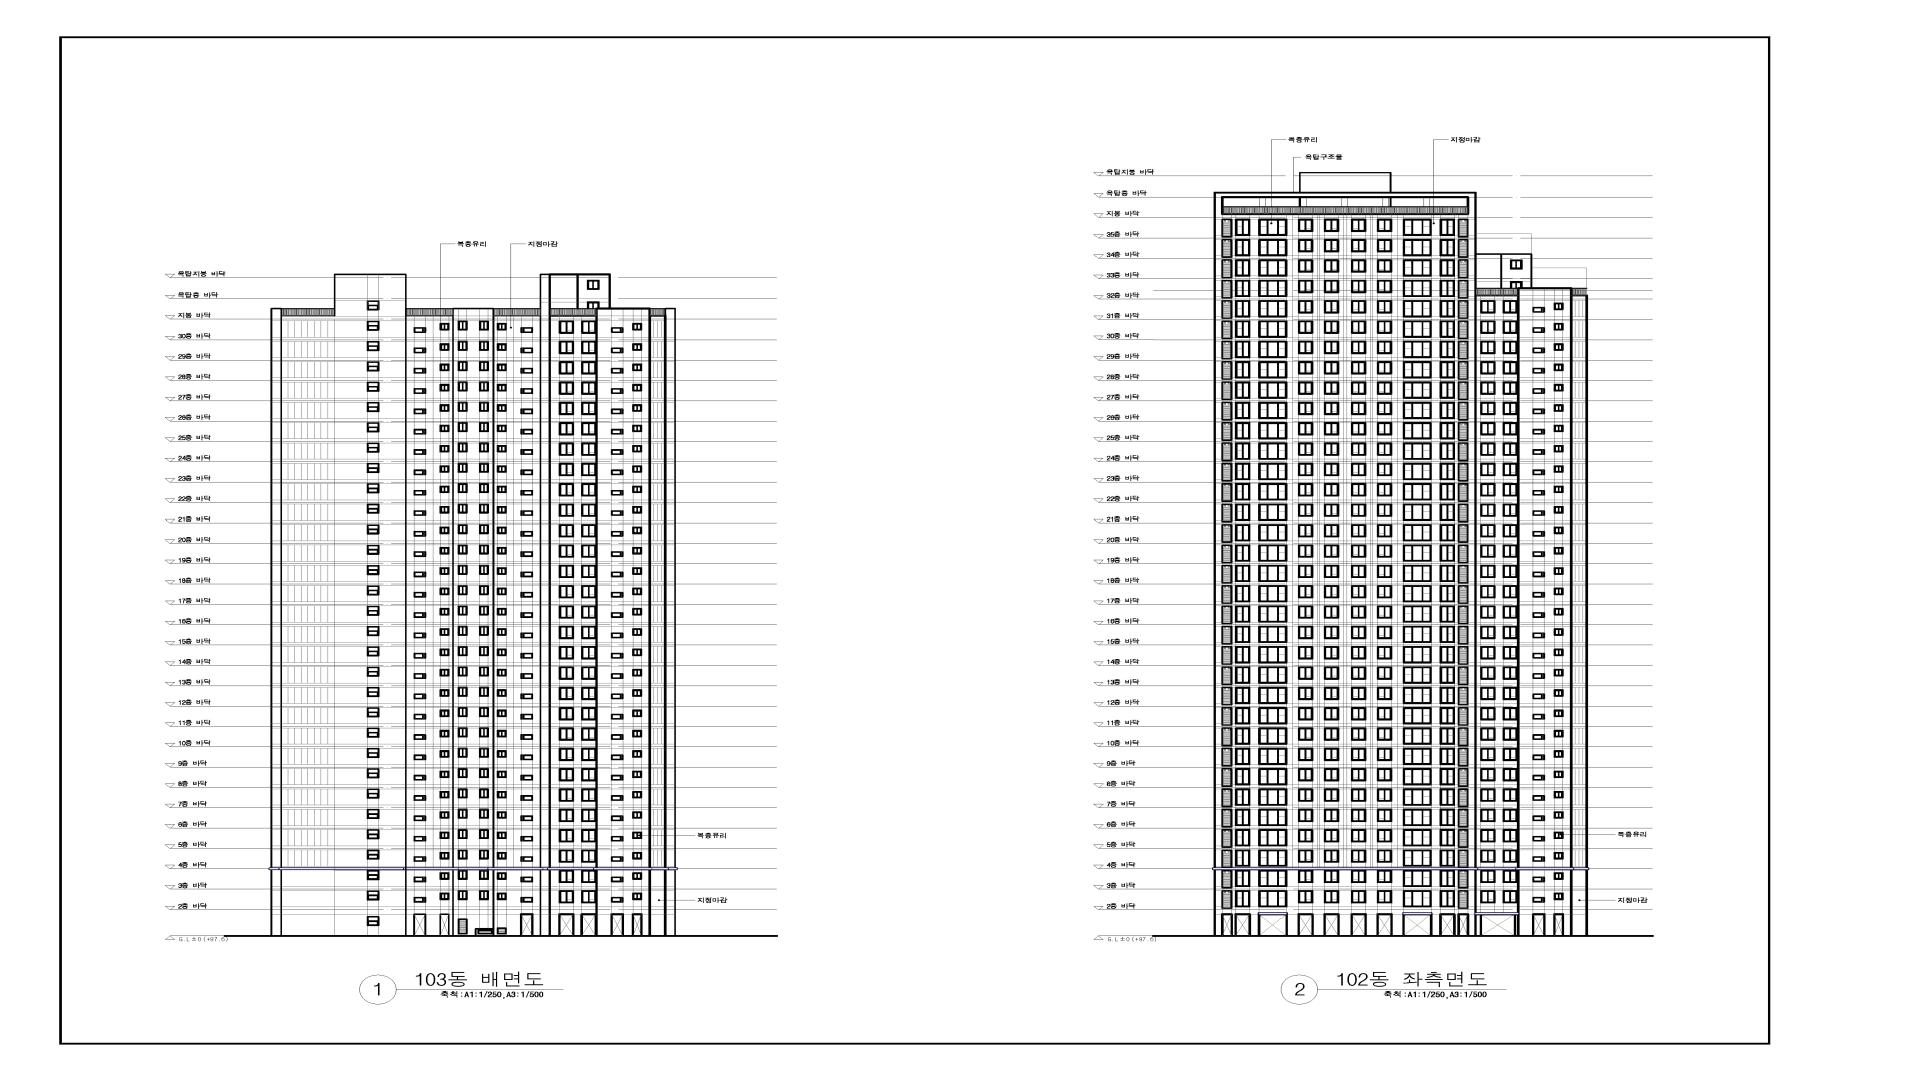door: (1480, 914, 1516, 935), (1258, 914, 1288, 935), (1402, 915, 1432, 935), (558, 913, 575, 936), (580, 914, 597, 936), (1234, 913, 1251, 935), (1350, 913, 1367, 935), (1439, 913, 1456, 935), (1298, 913, 1313, 935), (1324, 913, 1340, 935), (1377, 913, 1393, 935), (520, 914, 534, 936), (611, 913, 624, 936), (413, 914, 426, 936), (1532, 913, 1545, 935), (1221, 913, 1233, 935), (1457, 913, 1469, 935), (632, 913, 642, 936), (439, 914, 450, 936), (1553, 914, 1564, 935)
wall: (1213, 171, 1588, 938), (270, 273, 675, 938)
window: (1300, 196, 1391, 215), (1221, 196, 1300, 215), (1391, 196, 1469, 215), (1258, 239, 1287, 257), (1258, 340, 1287, 359), (1258, 483, 1287, 501), (1258, 625, 1287, 644), (1258, 666, 1287, 684), (1403, 849, 1432, 868), (1258, 767, 1287, 786), (1403, 666, 1432, 684), (1258, 280, 1288, 297), (1258, 361, 1288, 378), (1258, 402, 1288, 419), (1258, 422, 1288, 439), (1258, 504, 1288, 521), (1258, 525, 1288, 542), (1258, 545, 1288, 562), (1258, 585, 1288, 603), (1258, 870, 1288, 887), (1402, 260, 1432, 277), (1402, 280, 1432, 297), (1258, 219, 1287, 236), (1258, 260, 1287, 277), (1258, 301, 1287, 318), (1258, 320, 1287, 338), (1258, 381, 1287, 398), (1258, 443, 1287, 460), (1258, 463, 1287, 480), (1258, 564, 1287, 582), (1258, 605, 1287, 622), (1258, 646, 1287, 663), (1258, 687, 1287, 704), (1258, 707, 1287, 724), (1258, 728, 1287, 745), (1403, 789, 1432, 806), (1403, 808, 1432, 825), (1403, 829, 1432, 847), (1403, 870, 1432, 887), (1403, 890, 1432, 907), (1258, 748, 1287, 765), (1258, 789, 1287, 806), (1258, 808, 1287, 825), (1258, 829, 1287, 847), (1258, 849, 1287, 866), (1258, 890, 1287, 907), (1403, 219, 1432, 236), (1403, 239, 1432, 256), (1403, 301, 1432, 318), (1403, 320, 1432, 338), (1403, 342, 1432, 359), (1403, 361, 1432, 378), (1403, 381, 1432, 398), (1403, 402, 1432, 419), (1403, 422, 1432, 439), (1403, 443, 1432, 460), (1403, 463, 1432, 480), (1403, 483, 1432, 500), (1403, 504, 1432, 521), (1403, 525, 1432, 542), (1403, 545, 1432, 562), (1403, 564, 1432, 582), (1403, 585, 1432, 603), (1403, 605, 1432, 622), (1403, 626, 1432, 644), (1403, 646, 1432, 663), (1403, 687, 1432, 704), (1403, 707, 1432, 724), (1403, 728, 1432, 745), (1403, 748, 1432, 765), (1403, 769, 1432, 786), (1440, 666, 1456, 684), (1440, 767, 1456, 786), (1440, 280, 1456, 297), (1440, 402, 1456, 419), (1440, 463, 1456, 480), (1234, 219, 1250, 236), (1234, 260, 1250, 277), (1440, 829, 1456, 847), (1236, 808, 1250, 827), (1236, 869, 1250, 887), (1440, 442, 1455, 460), (1440, 564, 1455, 583), (1236, 239, 1250, 257), (1236, 340, 1250, 359), (1236, 767, 1250, 786), (1440, 808, 1455, 827), (1236, 789, 1250, 806), (1236, 829, 1250, 847), (1236, 849, 1250, 866), (1236, 890, 1250, 907), (1440, 219, 1455, 236), (1440, 239, 1455, 256), (1440, 260, 1455, 277), (1440, 301, 1455, 318), (1440, 320, 1455, 338), (1440, 342, 1455, 359), (1440, 361, 1455, 378), (1440, 381, 1455, 398), (1440, 422, 1455, 439), (1440, 483, 1455, 500), (1440, 504, 1455, 521), (1440, 525, 1455, 542), (1440, 545, 1455, 562), (1440, 585, 1455, 603), (1440, 605, 1455, 622), (1440, 626, 1455, 644), (1440, 646, 1455, 663), (1440, 687, 1455, 704), (1440, 707, 1455, 724), (1440, 728, 1455, 745), (1440, 748, 1455, 765), (1502, 340, 1519, 355), (1502, 381, 1519, 396), (1503, 767, 1520, 782), (1236, 280, 1250, 297), (1236, 301, 1250, 318), (1236, 320, 1250, 338), (1236, 361, 1250, 378), (1236, 381, 1250, 398), (1236, 402, 1250, 419), (1236, 422, 1250, 439), (1236, 443, 1250, 460), (1236, 463, 1250, 480), (1236, 483, 1250, 500), (1236, 504, 1250, 521), (1236, 525, 1250, 542), (1236, 545, 1250, 562), (1236, 564, 1250, 582), (1236, 585, 1250, 603), (1236, 605, 1250, 622), (1236, 626, 1250, 644), (1236, 646, 1250, 663), (1236, 667, 1250, 684), (1236, 687, 1250, 704), (1236, 707, 1250, 724), (1236, 728, 1250, 745), (1236, 748, 1250, 765), (1440, 789, 1455, 806), (1440, 849, 1455, 866), (1440, 870, 1455, 887), (1440, 890, 1455, 907), (1221, 808, 1233, 828), (1457, 808, 1469, 828), (1221, 239, 1233, 258), (1221, 299, 1233, 319), (1221, 483, 1233, 502), (1221, 564, 1233, 584), (1221, 666, 1233, 686), (1457, 564, 1469, 584), (1298, 849, 1313, 864), (1377, 340, 1393, 355), (1350, 340, 1366, 355), (1377, 483, 1393, 497), (1503, 442, 1519, 456), (1503, 666, 1519, 680), (1503, 707, 1519, 721), (1298, 666, 1313, 680), (1324, 767, 1340, 782), (1324, 808, 1340, 823), (1298, 767, 1313, 782), (1298, 808, 1313, 823), (1480, 666, 1495, 680), (1480, 442, 1495, 456), (1324, 340, 1340, 355), (1298, 340, 1313, 355), (1324, 442, 1340, 456), (1298, 442, 1313, 456), (1324, 483, 1340, 497), (1377, 666, 1393, 680), (1377, 767, 1393, 782), (1350, 767, 1366, 782), (1377, 808, 1393, 823), (1503, 361, 1520, 375), (1502, 402, 1519, 415), (1502, 422, 1519, 435), (1502, 463, 1519, 476), (1503, 483, 1520, 496), (1502, 545, 1519, 558), (1502, 585, 1519, 599), (1502, 626, 1519, 640), (1502, 728, 1519, 741), (1502, 829, 1519, 843), (1503, 890, 1520, 903), (1502, 301, 1519, 314), (1503, 320, 1520, 334), (1221, 707, 1233, 725), (1221, 728, 1233, 746), (1221, 748, 1233, 766), (1221, 769, 1233, 787), (1221, 789, 1233, 807), (1221, 829, 1233, 848), (1221, 849, 1233, 868), (1221, 870, 1233, 889), (1221, 890, 1233, 909), (1457, 890, 1469, 909), (1221, 219, 1233, 237), (1221, 260, 1233, 278), (1221, 320, 1233, 339), (1221, 342, 1233, 360), (1221, 361, 1233, 380), (1221, 381, 1233, 400), (1221, 402, 1233, 421), (1221, 422, 1233, 440), (1221, 443, 1233, 462), (1221, 463, 1233, 481), (1221, 504, 1233, 522), (1221, 525, 1233, 543), (1221, 545, 1233, 563), (1221, 585, 1233, 604), (1221, 605, 1233, 624), (1221, 626, 1233, 645), (1221, 646, 1233, 665), (1221, 687, 1233, 705), (1457, 260, 1469, 278), (1457, 626, 1469, 645), (1481, 340, 1495, 355), (1481, 483, 1495, 497), (1352, 666, 1366, 680), (1352, 808, 1366, 823), (558, 422, 574, 435), (580, 789, 596, 802), (580, 504, 596, 517), (558, 870, 574, 884), (1324, 870, 1340, 884), (1324, 890, 1340, 903), (1298, 870, 1313, 884), (1298, 890, 1313, 903), (1377, 239, 1393, 252), (1377, 260, 1393, 273), (1377, 280, 1393, 293), (1377, 301, 1393, 314), (1350, 260, 1366, 273), (1350, 301, 1366, 314), (1377, 320, 1393, 334), (1377, 361, 1393, 375), (1377, 381, 1393, 394), (1377, 402, 1393, 415), (1377, 422, 1393, 435), (1377, 443, 1393, 456), (1377, 463, 1393, 476), (1377, 504, 1393, 517), (1377, 525, 1393, 538), (1350, 525, 1366, 538), (1377, 545, 1393, 558), (1503, 504, 1519, 517), (1503, 524, 1519, 537), (1503, 564, 1519, 578), (1503, 605, 1519, 618), (1503, 646, 1519, 659), (1503, 687, 1519, 700), (1503, 748, 1519, 761), (1503, 789, 1519, 802), (1503, 808, 1519, 822), (1503, 849, 1519, 862), (1503, 870, 1519, 884), (1480, 890, 1495, 903), (1480, 870, 1495, 884), (1480, 849, 1495, 862), (1480, 829, 1495, 843), (1480, 808, 1495, 822), (1480, 789, 1495, 802), (1324, 525, 1340, 538), (1298, 545, 1313, 558), (1298, 564, 1313, 578), (1298, 585, 1313, 599), (1324, 545, 1340, 558), (1324, 564, 1340, 578), (1324, 585, 1340, 599), (1324, 605, 1340, 618), (1324, 626, 1340, 640), (1324, 646, 1340, 659), (1324, 667, 1340, 680), (1298, 605, 1313, 618), (1298, 626, 1313, 640), (1298, 646, 1313, 659), (1350, 626, 1366, 640), (1324, 687, 1340, 700), (1298, 687, 1313, 700), (1298, 707, 1313, 720), (1298, 728, 1313, 741), (1298, 748, 1313, 761), (1324, 707, 1340, 720), (1324, 728, 1340, 741), (1324, 748, 1340, 761), (1324, 789, 1340, 802), (1324, 829, 1340, 843), (1298, 789, 1313, 802), (1298, 829, 1313, 843), (1324, 849, 1340, 862), (1480, 769, 1495, 782), (1480, 748, 1495, 761), (1480, 728, 1495, 741), (1480, 707, 1495, 720), (1480, 687, 1495, 700), (1480, 320, 1495, 334), (1480, 381, 1495, 394), (1480, 504, 1495, 517), (1480, 545, 1495, 558), (1480, 585, 1495, 599), (1480, 605, 1495, 618), (1458, 239, 1469, 258), (1458, 340, 1469, 360), (1458, 483, 1469, 502), (1458, 666, 1469, 686), (1377, 219, 1393, 232), (1324, 219, 1340, 232), (1298, 219, 1313, 232), (1324, 239, 1340, 252), (1324, 260, 1340, 273), (1324, 280, 1340, 293), (1324, 301, 1340, 314), (1298, 239, 1313, 252), (1298, 260, 1313, 273), (1298, 280, 1313, 293), (1298, 301, 1313, 314), (1324, 320, 1340, 334), (1324, 361, 1340, 375), (1298, 320, 1313, 334), (1298, 361, 1313, 375), (1324, 381, 1340, 394), (1324, 402, 1340, 415), (1324, 422, 1340, 435), (1298, 381, 1313, 394), (1298, 402, 1313, 415), (1298, 422, 1313, 435), (1324, 463, 1340, 476), (1324, 504, 1340, 517), (1298, 463, 1313, 476), (1298, 483, 1313, 496), (1377, 564, 1393, 578), (1377, 585, 1393, 599), (1350, 585, 1366, 599), (1350, 605, 1366, 618), (1377, 605, 1393, 618), (1377, 626, 1393, 640), (1377, 646, 1393, 659), (1350, 646, 1366, 659), (1377, 687, 1393, 700), (1377, 707, 1393, 720), (1377, 728, 1393, 741), (1377, 748, 1393, 761), (1377, 789, 1393, 802), (1350, 829, 1366, 843), (1377, 829, 1393, 843), (1350, 849, 1366, 862), (1377, 849, 1393, 862), (1377, 870, 1393, 884), (1350, 869, 1366, 882), (1377, 890, 1393, 903), (1350, 890, 1366, 903), (1480, 301, 1495, 314), (1458, 687, 1469, 705), (1458, 707, 1469, 725), (1458, 728, 1469, 746), (1458, 748, 1469, 766), (1458, 769, 1469, 787), (1458, 789, 1469, 807), (1458, 829, 1469, 848), (1458, 849, 1469, 868), (1458, 870, 1469, 889), (1222, 280, 1233, 298), (1458, 219, 1469, 237), (1458, 280, 1469, 298), (1458, 301, 1469, 319), (1458, 320, 1469, 339), (1458, 361, 1469, 380), (1458, 381, 1469, 400), (1458, 402, 1469, 421), (1458, 422, 1469, 440), (1458, 443, 1469, 462), (1458, 463, 1469, 481), (1458, 504, 1469, 522), (1458, 525, 1469, 543), (1458, 545, 1469, 563), (1458, 585, 1469, 604), (1458, 605, 1469, 624), (1458, 646, 1469, 665), (582, 422, 596, 435), (582, 402, 596, 415), (582, 381, 596, 394), (582, 361, 596, 375), (559, 483, 574, 496), (559, 463, 574, 476), (559, 443, 574, 456), (559, 402, 574, 415), (559, 382, 574, 396), (559, 361, 574, 375), (559, 342, 574, 355), (559, 320, 574, 334), (582, 320, 596, 334), (582, 890, 596, 903), (582, 870, 596, 884), (582, 849, 596, 862), (582, 829, 596, 843), (582, 808, 596, 822), (582, 769, 596, 782), (582, 748, 596, 761), (582, 728, 596, 741), (582, 707, 596, 720), (582, 687, 596, 700), (582, 667, 596, 680), (582, 646, 596, 659), (582, 626, 596, 640), (582, 605, 596, 618), (582, 585, 596, 599), (582, 564, 596, 578), (582, 545, 596, 558), (582, 525, 596, 538), (582, 483, 596, 496), (582, 463, 596, 476), (582, 443, 596, 456), (559, 890, 574, 903), (559, 849, 574, 862), (559, 829, 574, 843), (559, 808, 574, 822), (559, 789, 574, 802), (559, 769, 574, 782), (559, 748, 574, 761), (559, 728, 574, 741), (559, 707, 574, 720), (559, 687, 574, 700), (559, 666, 574, 679), (559, 646, 574, 659), (559, 626, 574, 640), (559, 605, 574, 618), (559, 585, 574, 599), (559, 564, 574, 578), (559, 545, 574, 558), (559, 524, 574, 537), (559, 504, 574, 517), (1352, 239, 1366, 252), (1352, 280, 1366, 293), (1352, 320, 1366, 334), (1352, 361, 1366, 375), (1352, 381, 1366, 394), (1352, 402, 1366, 415), (1352, 422, 1366, 435), (1352, 443, 1366, 456), (1352, 463, 1366, 476), (1352, 483, 1366, 496), (1352, 545, 1366, 558), (1299, 504, 1313, 517), (1352, 504, 1366, 517), (1481, 361, 1495, 375), (1481, 402, 1495, 415), (1481, 422, 1495, 435), (1481, 463, 1495, 476), (1481, 525, 1495, 538), (1481, 564, 1495, 578), (1481, 626, 1495, 640), (1481, 646, 1495, 659), (1352, 219, 1366, 232), (1352, 564, 1366, 578), (1352, 687, 1366, 700), (1352, 707, 1366, 720), (1352, 728, 1366, 741), (1352, 748, 1366, 761), (1352, 789, 1366, 802), (1298, 525, 1313, 537), (582, 342, 596, 353), (458, 919, 468, 935), (587, 280, 600, 290), (367, 890, 380, 901), (367, 870, 380, 881), (367, 849, 380, 860), (367, 829, 380, 840), (367, 789, 380, 799), (367, 748, 380, 758), (367, 728, 380, 738), (367, 707, 380, 717), (367, 687, 380, 698), (367, 646, 380, 657), (367, 585, 380, 596), (367, 605, 380, 616), (367, 545, 380, 555), (367, 504, 380, 514), (367, 463, 380, 473), (367, 422, 380, 433), (367, 402, 380, 413), (367, 381, 380, 392), (367, 361, 380, 372), (367, 320, 380, 331), (367, 916, 380, 926), (367, 810, 380, 819), (367, 769, 380, 778), (367, 667, 380, 676), (367, 626, 380, 636), (367, 566, 380, 575), (367, 525, 380, 534), (367, 484, 380, 493), (367, 443, 380, 452), (367, 342, 380, 351), (367, 301, 380, 310), (1510, 260, 1523, 269), (458, 890, 468, 901), (458, 870, 468, 881), (458, 849, 468, 860), (458, 808, 468, 819), (458, 767, 468, 778), (458, 748, 468, 758), (458, 727, 468, 737), (458, 707, 468, 717), (458, 666, 468, 676), (458, 646, 468, 657), (458, 625, 468, 636), (458, 605, 468, 616), (458, 564, 468, 575), (458, 545, 468, 555), (458, 524, 468, 534), (458, 504, 468, 514), (458, 483, 468, 493), (458, 463, 468, 473), (458, 442, 468, 452), (458, 422, 468, 433), (458, 381, 468, 392), (458, 361, 468, 372), (458, 340, 468, 351), (458, 320, 468, 331), (479, 320, 489, 331), (479, 340, 489, 351), (479, 361, 489, 372), (479, 381, 489, 392), (479, 422, 489, 433), (479, 442, 489, 452), (479, 463, 489, 473), (479, 483, 489, 493), (479, 504, 489, 514), (479, 524, 489, 534), (479, 545, 489, 555), (479, 564, 489, 575), (479, 605, 489, 616), (479, 625, 489, 636), (479, 646, 489, 657), (479, 890, 489, 901), (479, 849, 489, 860), (479, 808, 489, 819), (479, 789, 489, 799), (479, 767, 489, 778), (479, 748, 489, 758), (479, 727, 489, 737), (479, 707, 489, 717), (479, 687, 489, 698), (479, 666, 489, 676), (477, 928, 493, 935), (1510, 281, 1523, 289), (458, 829, 468, 839), (458, 789, 468, 798), (458, 687, 468, 696), (458, 585, 468, 595), (458, 402, 468, 411), (479, 402, 489, 411), (479, 585, 489, 595), (479, 870, 489, 880), (479, 829, 489, 839), (587, 302, 600, 309), (413, 571, 426, 578), (611, 897, 624, 903), (611, 856, 624, 862), (611, 815, 624, 822), (611, 754, 624, 761), (611, 612, 624, 618), (611, 489, 624, 496), (611, 429, 624, 435), (611, 388, 624, 394), (611, 327, 624, 334), (520, 897, 533, 903), (520, 815, 533, 822), (1532, 327, 1545, 334), (1532, 368, 1545, 375), (1532, 388, 1545, 394), (1532, 429, 1545, 435), (1532, 489, 1545, 496), (1532, 551, 1545, 558), (1532, 571, 1545, 578), (1532, 612, 1545, 618), (1532, 653, 1545, 659), (1532, 673, 1545, 679), (1532, 713, 1545, 720), (1532, 754, 1545, 761), (1532, 795, 1545, 802), (1532, 815, 1545, 822), (1532, 856, 1545, 862), (1532, 897, 1545, 903), (632, 669, 642, 676), (632, 649, 642, 657), (632, 628, 642, 636), (632, 608, 642, 616), (632, 567, 642, 575), (632, 547, 642, 555), (632, 526, 642, 534), (632, 506, 642, 514), (632, 485, 642, 493), (632, 465, 642, 473), (632, 444, 642, 452), (632, 425, 642, 433), (632, 404, 642, 411), (632, 384, 642, 392), (632, 343, 642, 351), (632, 323, 642, 331), (632, 893, 642, 901), (632, 852, 642, 860), (632, 811, 642, 819), (632, 791, 642, 799), (632, 770, 642, 778), (632, 750, 642, 758), (632, 729, 642, 737), (632, 709, 642, 717), (439, 893, 450, 901), (439, 852, 450, 860), (439, 811, 450, 819), (439, 791, 450, 799), (439, 770, 450, 778), (439, 750, 450, 758), (439, 729, 450, 737), (439, 709, 450, 717), (439, 690, 450, 698), (439, 669, 450, 676), (439, 649, 450, 657), (439, 628, 450, 636), (439, 608, 450, 616), (439, 567, 450, 575), (439, 547, 450, 555), (439, 526, 450, 534), (439, 506, 450, 514), (439, 485, 450, 493), (439, 465, 450, 473), (439, 444, 450, 452), (439, 425, 450, 433), (439, 384, 450, 392), (439, 364, 450, 372), (439, 343, 450, 351), (439, 323, 450, 331), (1553, 649, 1564, 657), (1553, 669, 1564, 676), (1553, 690, 1564, 698), (1553, 709, 1564, 717), (1553, 729, 1564, 737), (1553, 750, 1564, 758), (1553, 770, 1564, 778), (1553, 791, 1564, 799), (1553, 811, 1564, 819), (1553, 852, 1564, 860), (1553, 893, 1564, 901), (1553, 302, 1564, 310), (1553, 323, 1564, 331), (1553, 343, 1564, 351), (1553, 384, 1564, 392), (1553, 425, 1564, 433), (1553, 465, 1564, 473), (1553, 485, 1564, 493), (1553, 506, 1564, 514), (1553, 526, 1564, 534), (1553, 547, 1564, 555), (1553, 567, 1564, 575), (1553, 608, 1564, 616), (414, 897, 426, 903), (414, 856, 426, 862), (414, 815, 426, 822), (414, 754, 426, 761), (414, 653, 426, 659), (414, 612, 426, 618), (521, 327, 533, 334), (414, 429, 426, 435), (414, 388, 426, 394), (521, 856, 533, 862), (521, 713, 533, 720), (521, 653, 533, 659), (521, 612, 533, 618), (521, 429, 533, 435), (521, 388, 533, 394), (497, 927, 506, 935), (497, 729, 506, 737), (497, 709, 506, 717), (497, 690, 506, 698), (497, 669, 506, 676), (497, 649, 506, 657), (497, 628, 506, 636), (497, 608, 506, 616), (497, 567, 506, 575), (497, 547, 506, 555), (497, 526, 506, 534), (497, 506, 506, 514), (497, 485, 506, 493), (497, 465, 506, 473), (497, 444, 506, 452), (497, 425, 506, 433), (497, 404, 506, 411), (497, 384, 506, 392), (497, 364, 506, 372), (497, 343, 506, 351), (497, 323, 506, 331), (497, 893, 506, 901), (497, 852, 506, 860), (497, 811, 506, 819), (497, 791, 506, 799), (497, 770, 506, 778), (497, 750, 506, 758), (632, 690, 642, 696), (632, 588, 642, 595), (632, 364, 642, 371), (632, 873, 642, 880), (632, 832, 642, 839), (413, 877, 426, 882), (520, 348, 533, 353), (611, 877, 624, 882), (611, 836, 624, 841), (611, 795, 624, 800), (611, 775, 624, 781), (611, 735, 624, 740), (611, 715, 624, 720), (611, 694, 624, 699), (611, 674, 624, 679), (611, 653, 624, 658), (611, 633, 624, 638), (611, 592, 624, 597), (611, 572, 624, 578), (611, 551, 624, 556), (611, 531, 624, 537), (611, 510, 624, 516), (611, 469, 624, 475), (611, 450, 624, 455), (611, 409, 624, 414), (611, 368, 624, 373), (611, 348, 624, 353), (439, 873, 450, 880), (439, 832, 450, 839), (439, 588, 450, 595), (439, 405, 450, 411), (520, 877, 533, 882), (520, 775, 533, 781), (520, 754, 533, 760), (520, 592, 533, 597), (520, 551, 533, 556), (520, 491, 533, 496), (520, 409, 533, 414), (1553, 832, 1564, 839), (1553, 873, 1564, 880), (1532, 307, 1545, 313), (1532, 348, 1545, 353), (1532, 409, 1545, 414), (1532, 450, 1545, 455), (1532, 469, 1545, 475), (1532, 510, 1545, 516), (1532, 531, 1545, 537), (1532, 592, 1545, 597), (1532, 633, 1545, 638), (1532, 694, 1545, 699), (1532, 735, 1545, 740), (1532, 775, 1545, 781), (1532, 836, 1545, 841), (1532, 877, 1545, 882), (1553, 364, 1564, 371), (1553, 405, 1564, 411), (1553, 446, 1564, 452), (1553, 588, 1564, 595), (1553, 629, 1564, 636), (414, 836, 426, 841), (414, 795, 426, 800), (414, 775, 426, 781), (414, 735, 426, 740), (414, 715, 426, 720), (414, 694, 426, 699), (414, 674, 426, 679), (414, 633, 426, 638), (414, 592, 426, 597), (414, 551, 426, 556), (414, 531, 426, 537), (414, 510, 426, 516), (414, 491, 426, 496), (521, 368, 533, 373), (414, 469, 426, 475), (414, 450, 426, 455), (414, 409, 426, 414), (414, 368, 426, 373), (414, 348, 426, 353), (414, 327, 426, 332), (521, 836, 533, 841), (521, 795, 533, 800), (521, 735, 533, 740), (521, 694, 533, 699), (521, 674, 533, 679), (521, 633, 533, 638), (521, 572, 533, 578), (521, 531, 533, 537), (521, 510, 533, 516), (521, 469, 533, 475), (521, 450, 533, 455), (497, 588, 506, 595), (497, 873, 506, 880), (497, 832, 506, 839)
